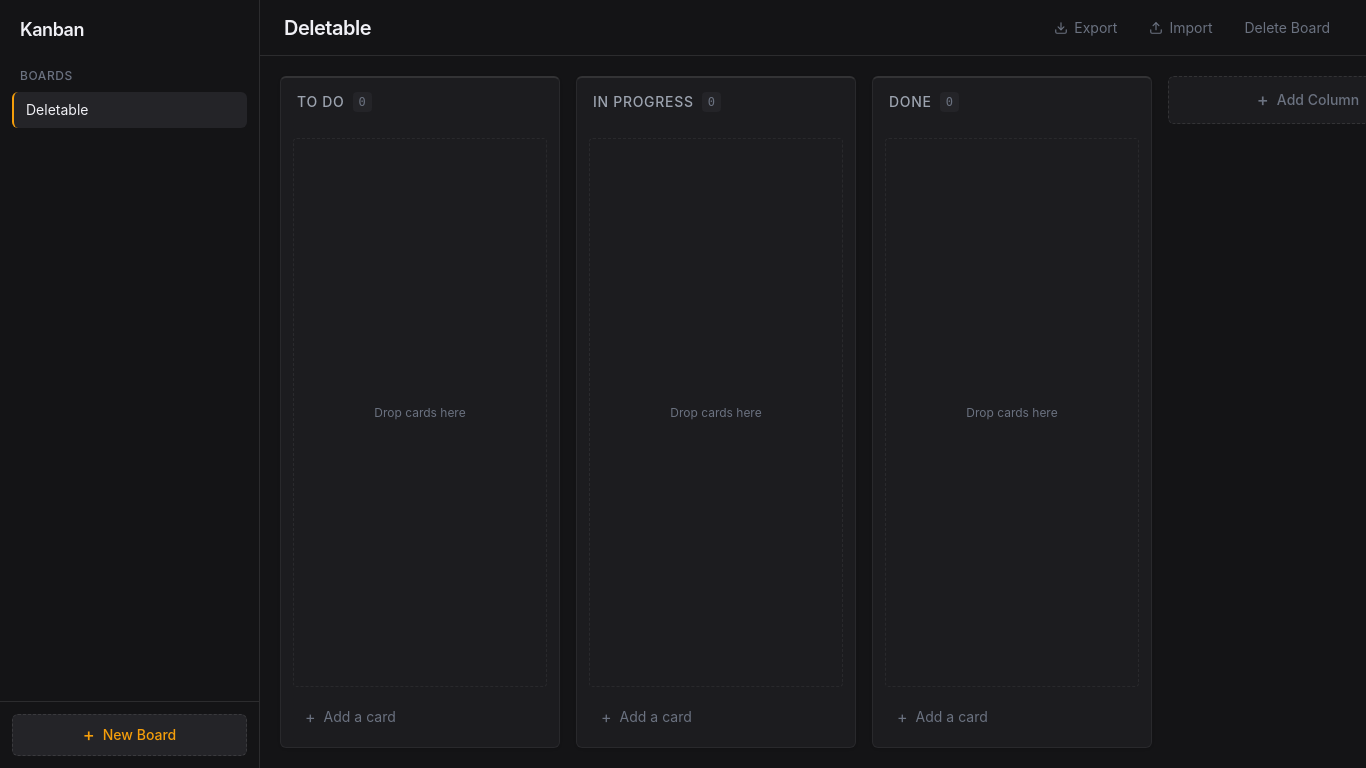
ConfirmDialog focus trap and accessibility › renders confirm dialog with alertdialog role
This screenshot has width=1366, height=768.
Click the button "Delete Board" at (1287, 28), box [1232, 12, 1342, 44]
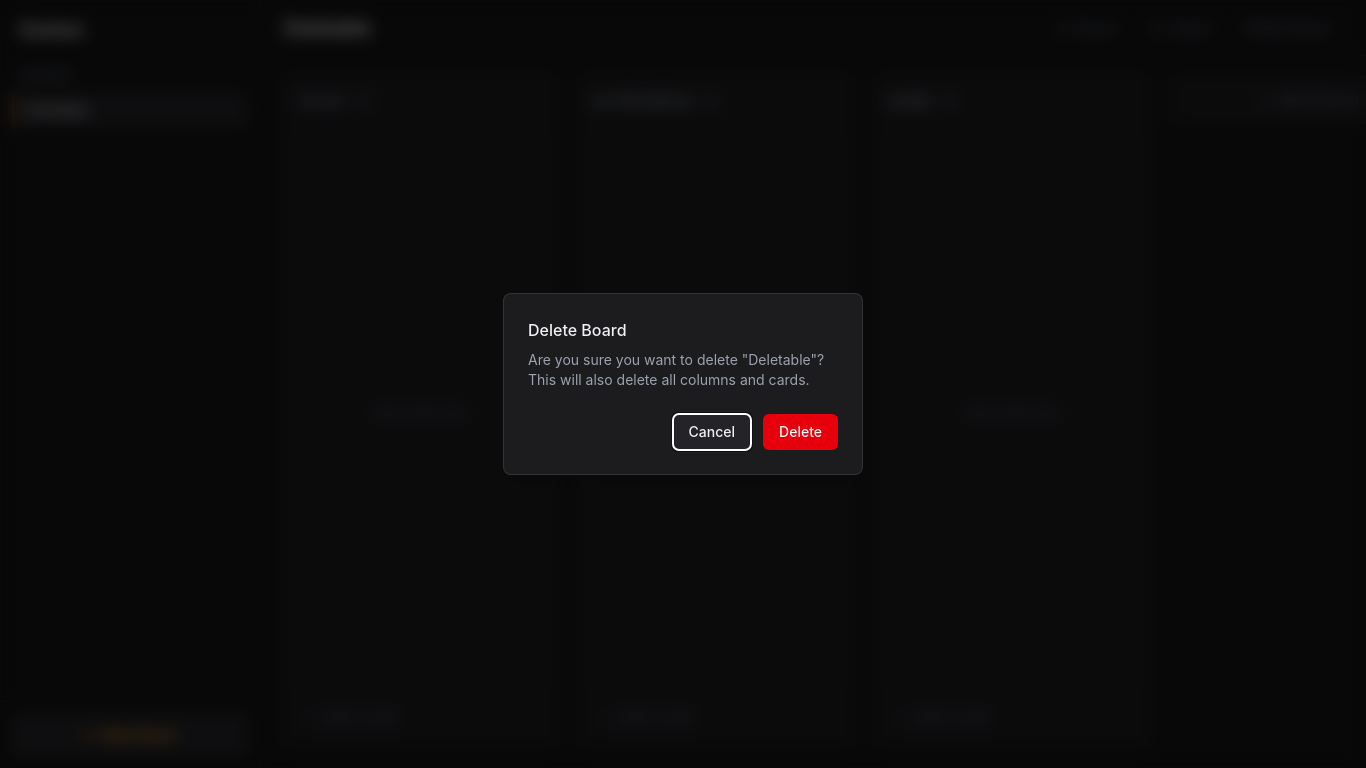
Expected: the dialog is shown, [503, 293, 863, 475]
